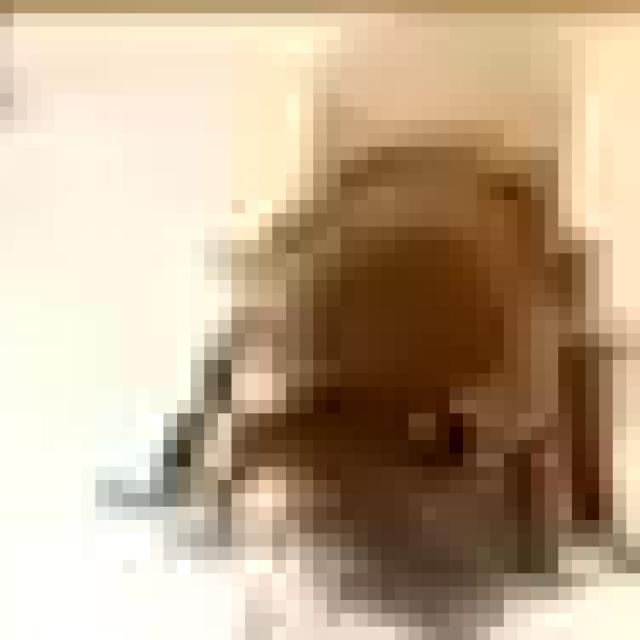honeybee: (191, 139, 602, 616)
